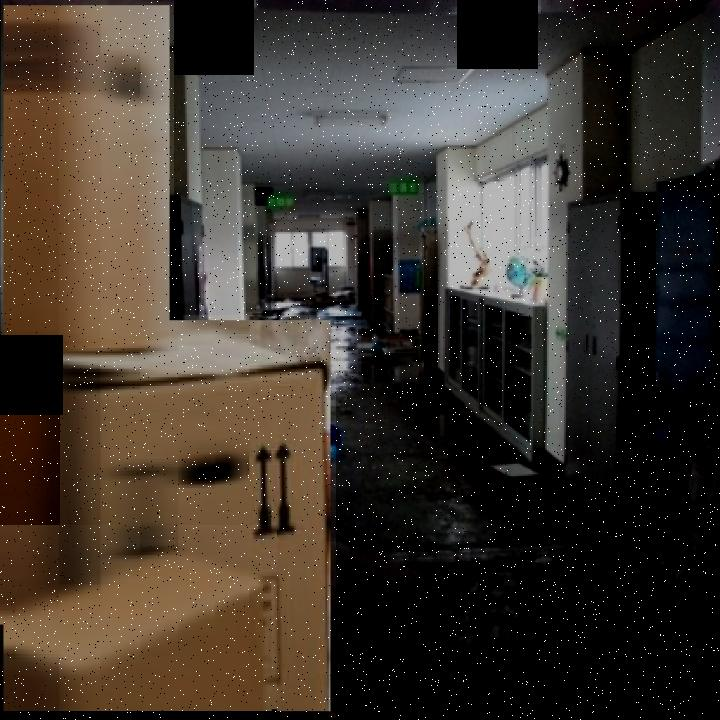box: (60, 315, 336, 718), (1, 0, 174, 363), (0, 526, 277, 718), (0, 334, 68, 632)
